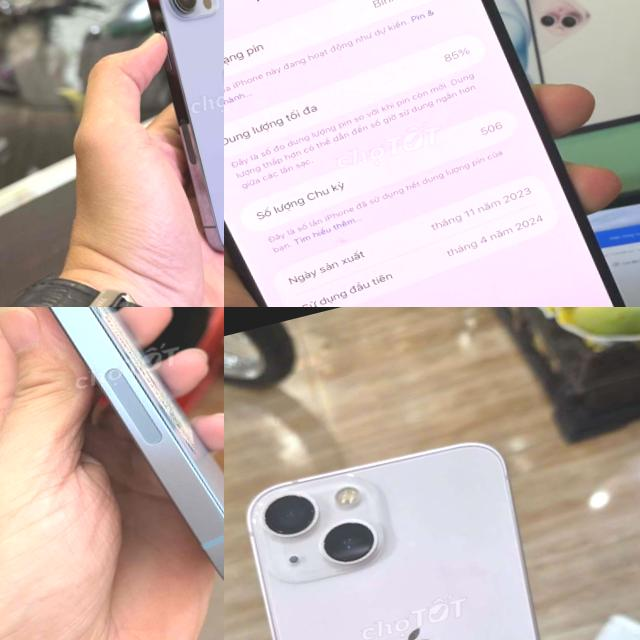gen_12_13: (227, 424, 590, 640), (121, 0, 224, 255)
gen_14: (0, 307, 224, 640)
gen_15: (224, 0, 640, 307)
